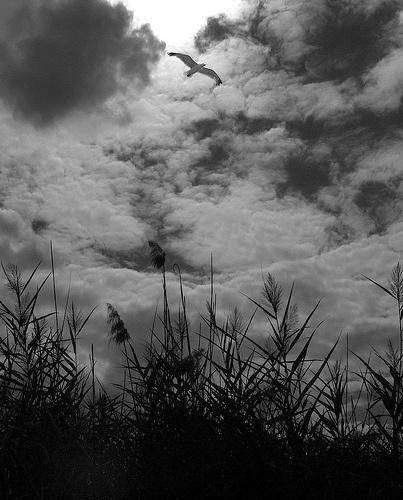bird: (168, 53, 223, 86)
